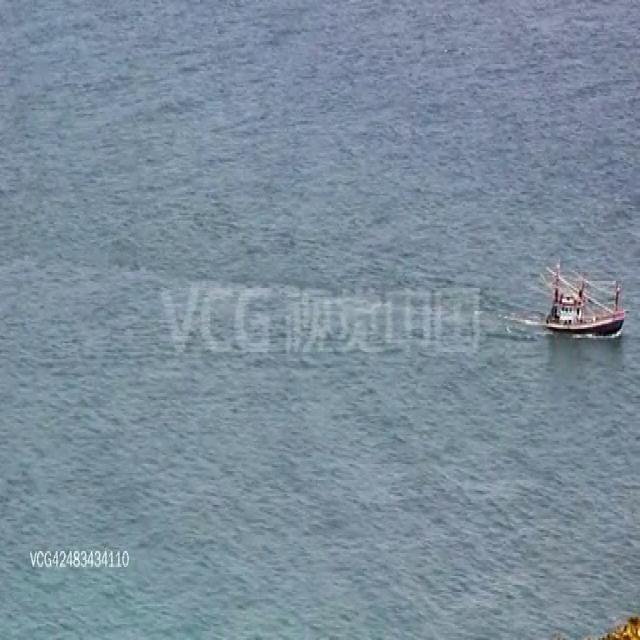fishing boat: (542, 262, 625, 338)
